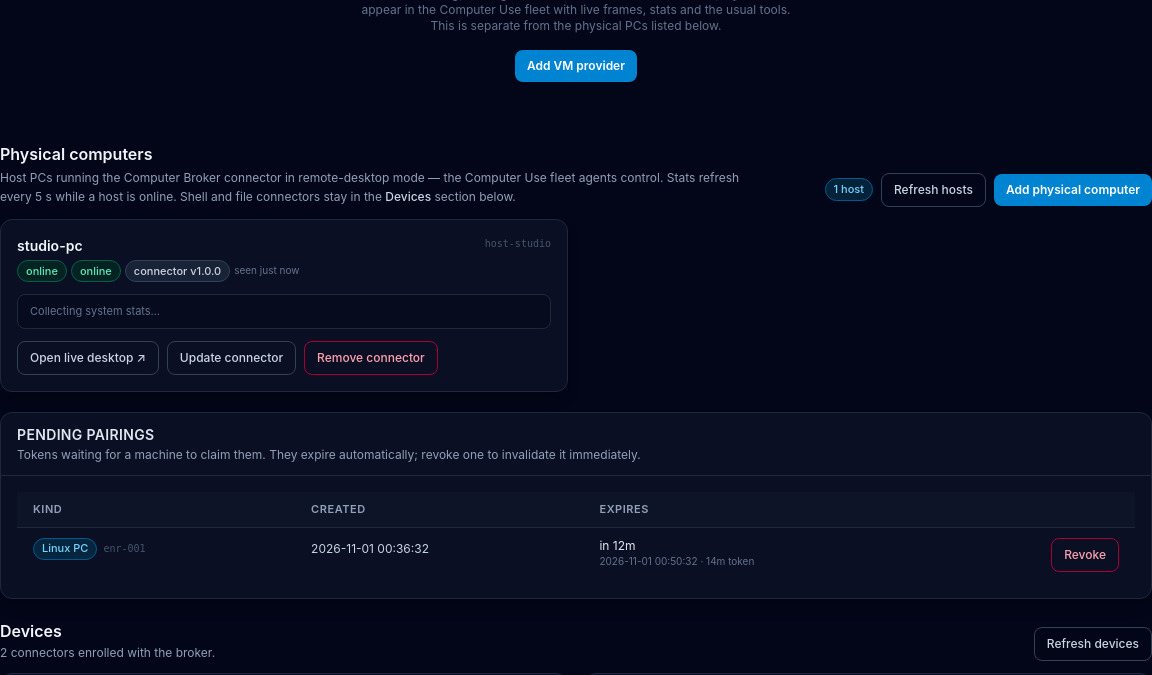
Scenario: Connectors page — physical computers (v0.12) › removes a host connector and optionally the computer
(page scrolled)
Click the button with aria-label "Remove connector on studio-pc".
click(371, 358)  # box [304,340,438,374]
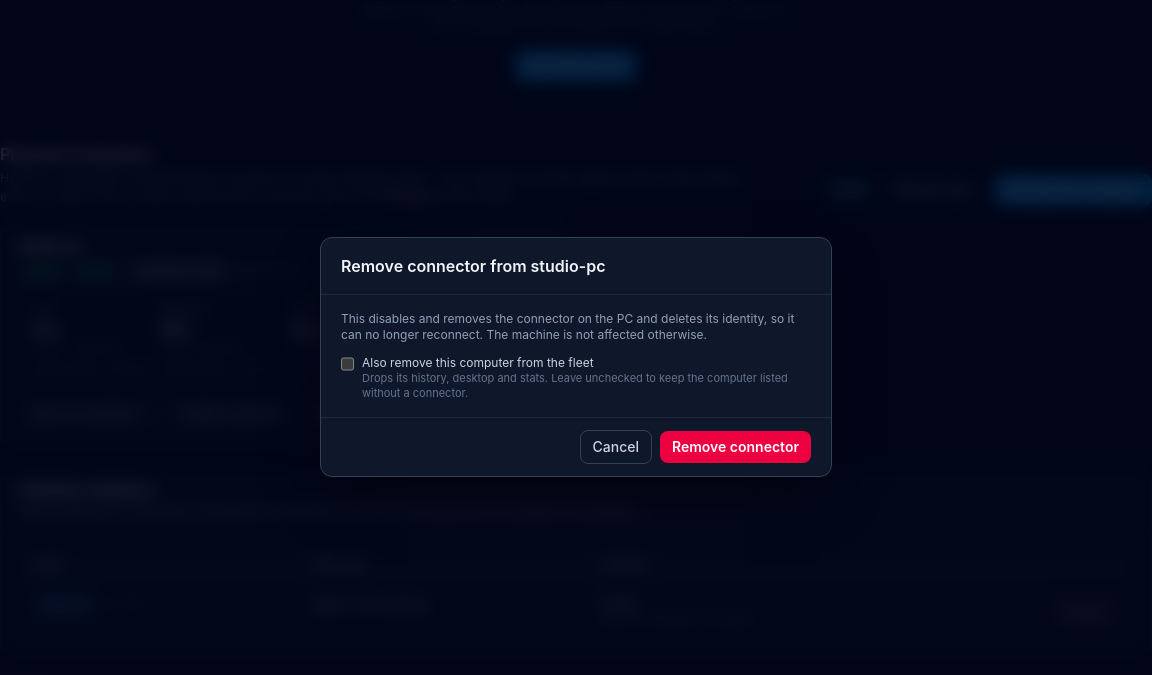
Click the checkbox.
click(348, 364)  # box [341,357,354,371]
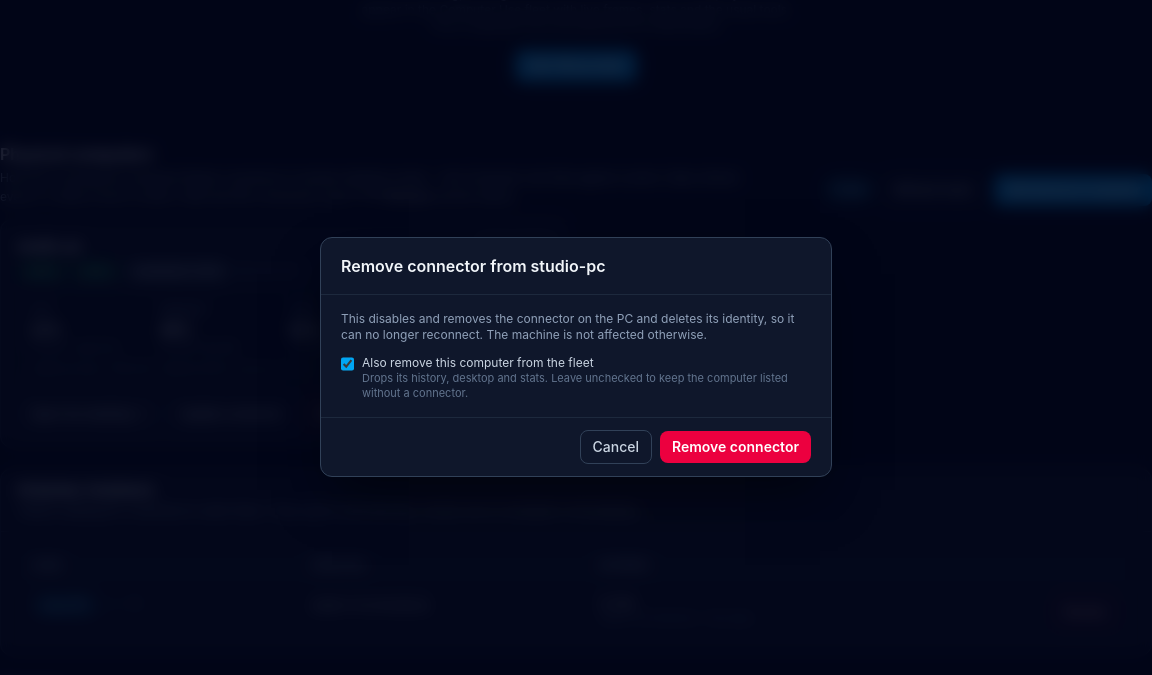
Click the button "Remove connector".
click(736, 447)  # box [660,431,811,463]
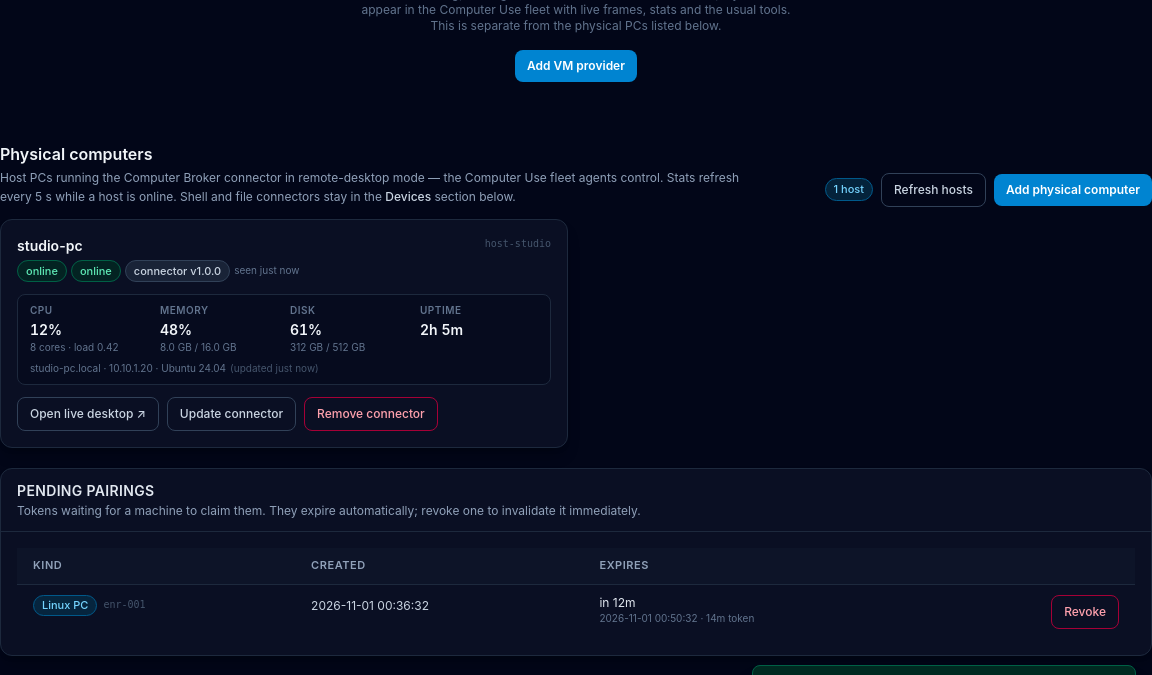
Check: the heading "Remove connector from studio-pc" is gone
